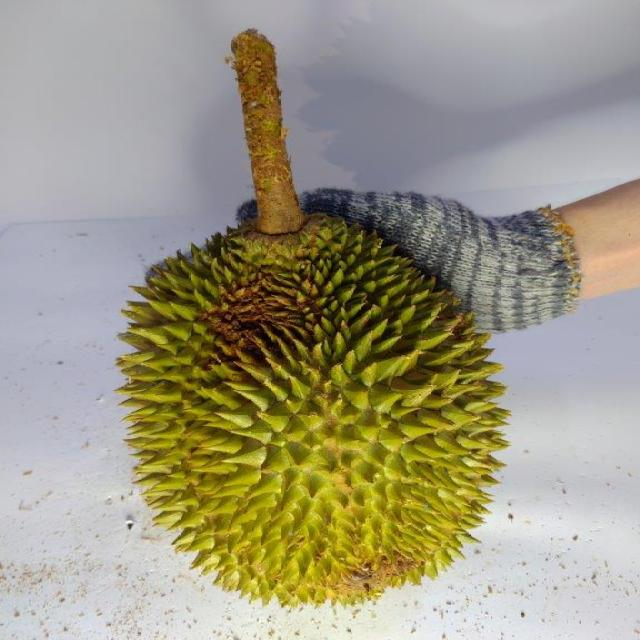defective: (117, 208, 510, 611)
